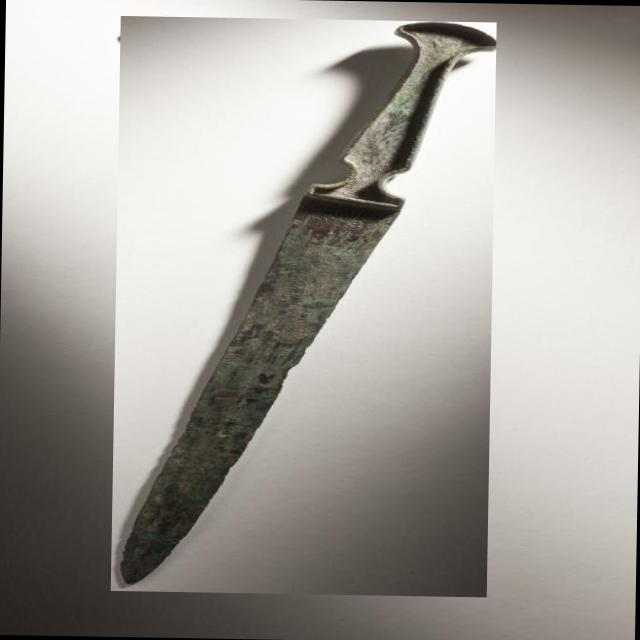Knife: (111, 22, 496, 591)
